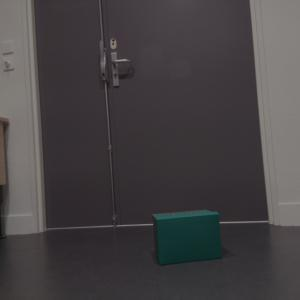small: (152, 208, 226, 266)
